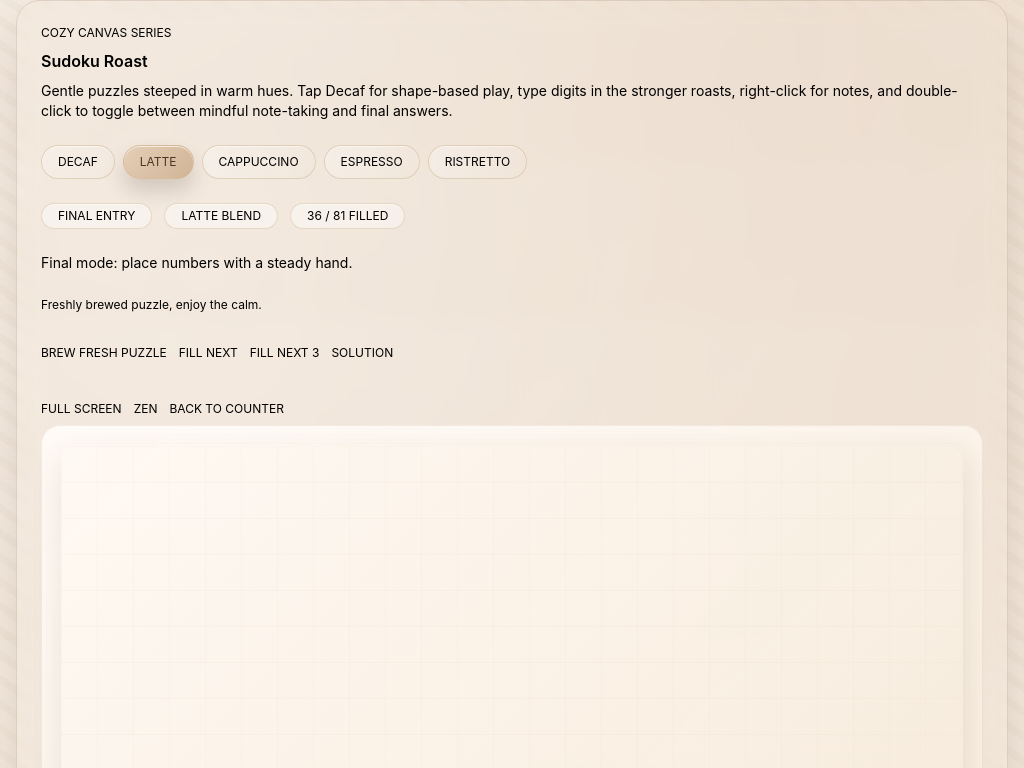
it: SudokuApp component › shows confetti when the puzzle is completed
Click the button "Solution". click: {"x": 362, "y": 353}
box: [331,337,393,369]
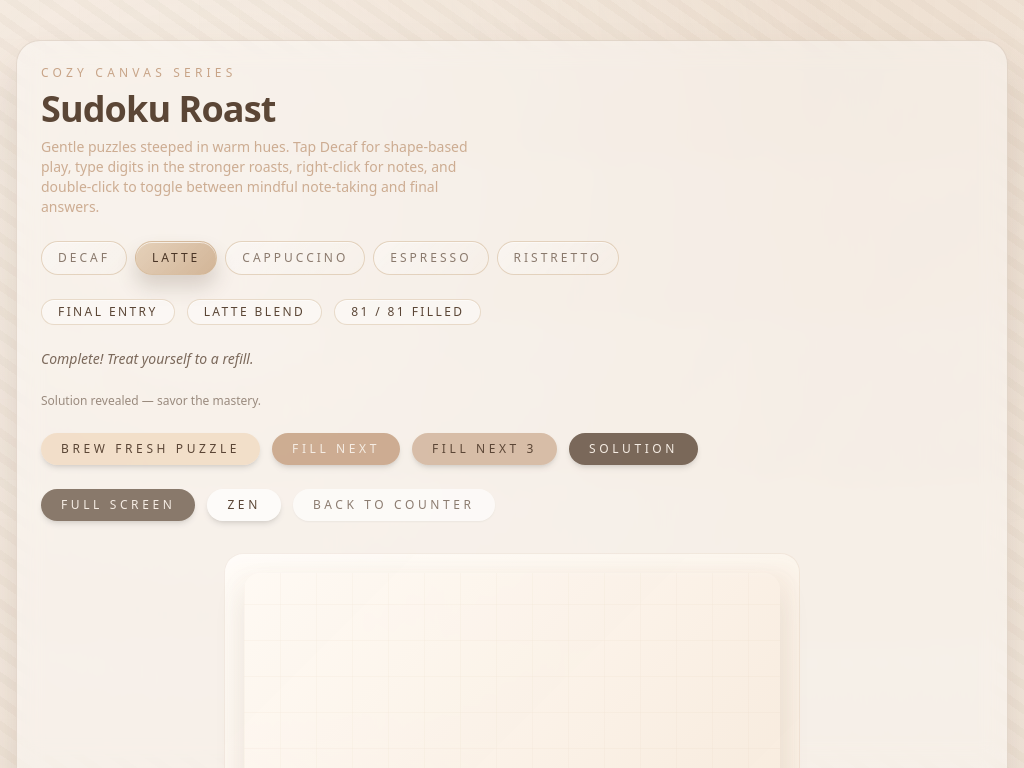
expect the element with class "confetti-container" is shown: met
